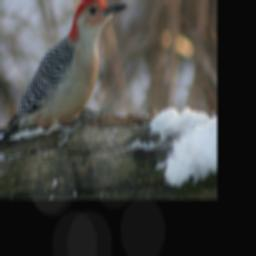Woodpecker: (0, 0, 129, 147)
